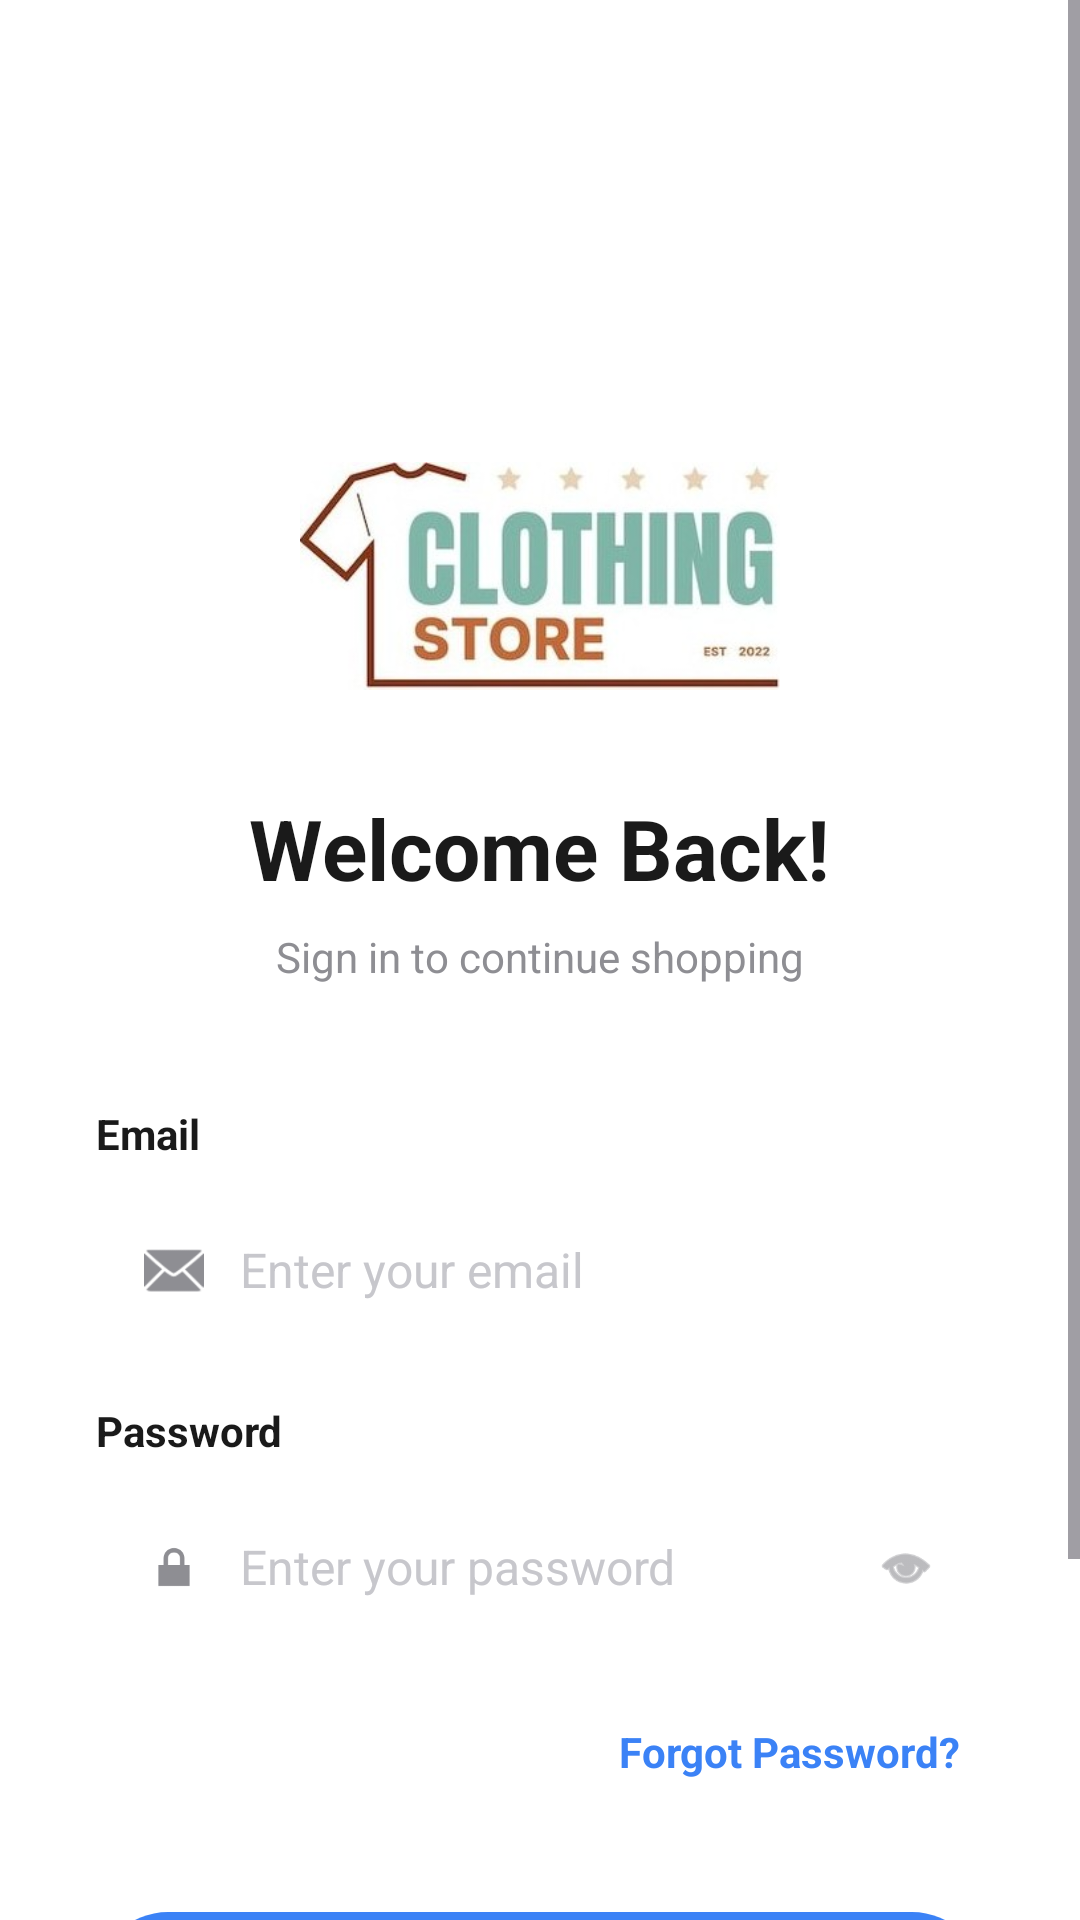

Icon click points for this 1080x1920 phone screenshot, format (x,y):
lock: (174,1567)
view: (906,1568)
